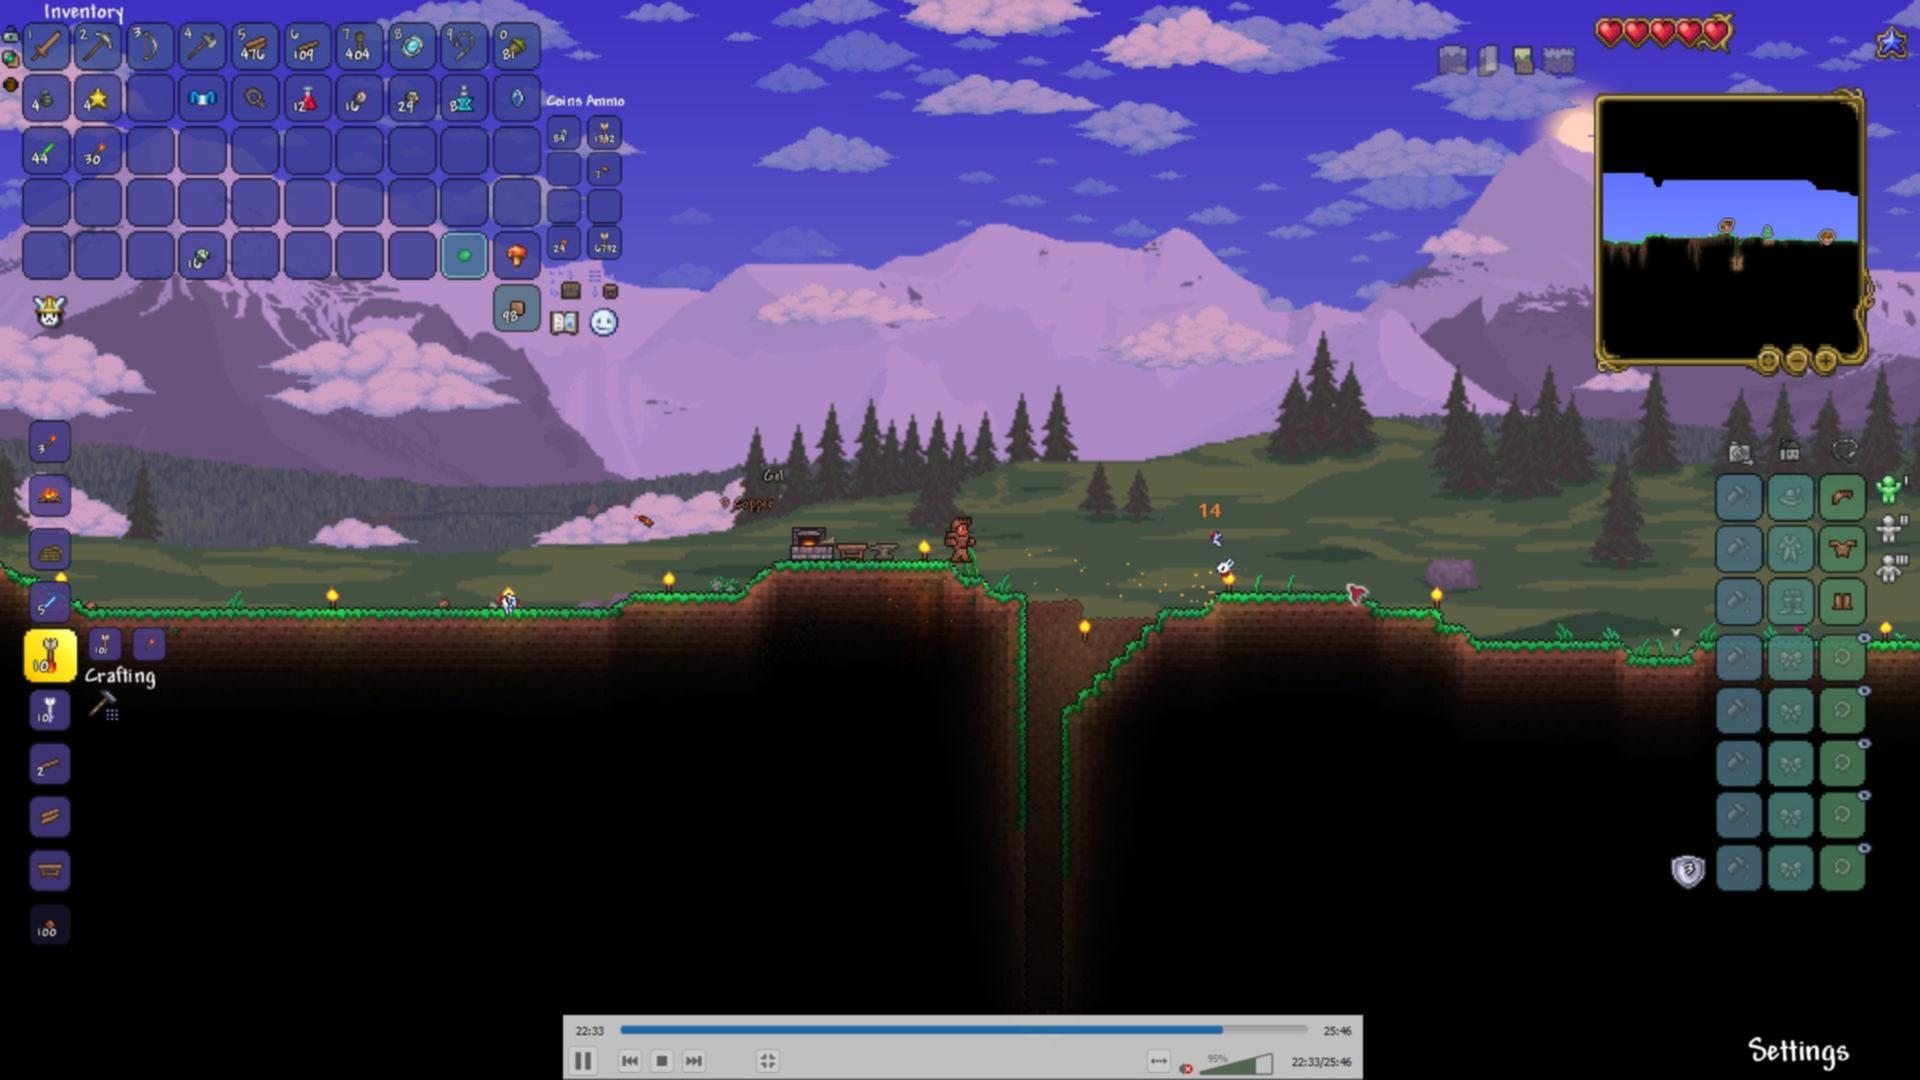anvil: (873, 534, 899, 562)
furnace: (786, 517, 836, 558)
glowstick: (37, 138, 57, 162)
grenade: (36, 83, 54, 108)
potion: (298, 83, 318, 112)
recallP: (452, 83, 476, 116)
star: (87, 84, 108, 108)
